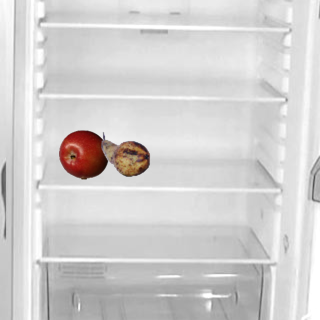Apple Braeburn: (58, 129, 108, 179)
Pear Abate: (100, 129, 150, 179)
